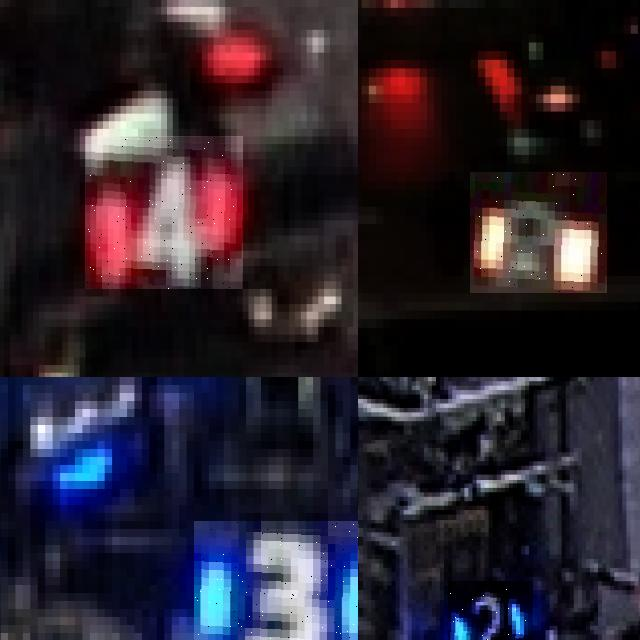B2: (448, 581, 533, 640)
B3: (194, 521, 358, 640)
R4: (85, 136, 243, 289)
Rs: (471, 172, 608, 293)
